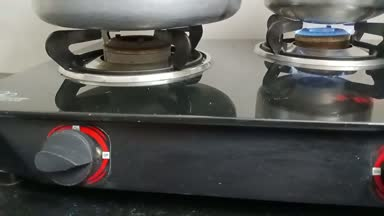flame_gas_off: (38, 23, 188, 192)
flame_gas_on: (270, 14, 374, 65)
